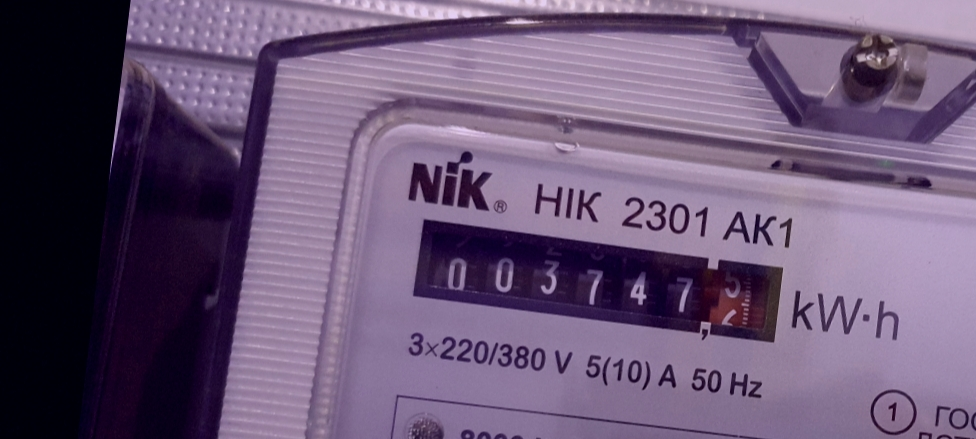0: (490, 253, 515, 293), (442, 254, 468, 291)
3: (536, 257, 559, 295)
4: (624, 266, 649, 308)
5: (719, 268, 742, 299)
6: (716, 304, 737, 327)
7: (667, 272, 694, 314), (579, 265, 603, 306)
screen: (400, 206, 798, 358)
